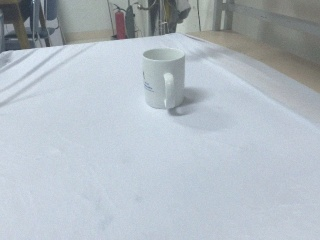cup: (140, 47, 187, 110)
